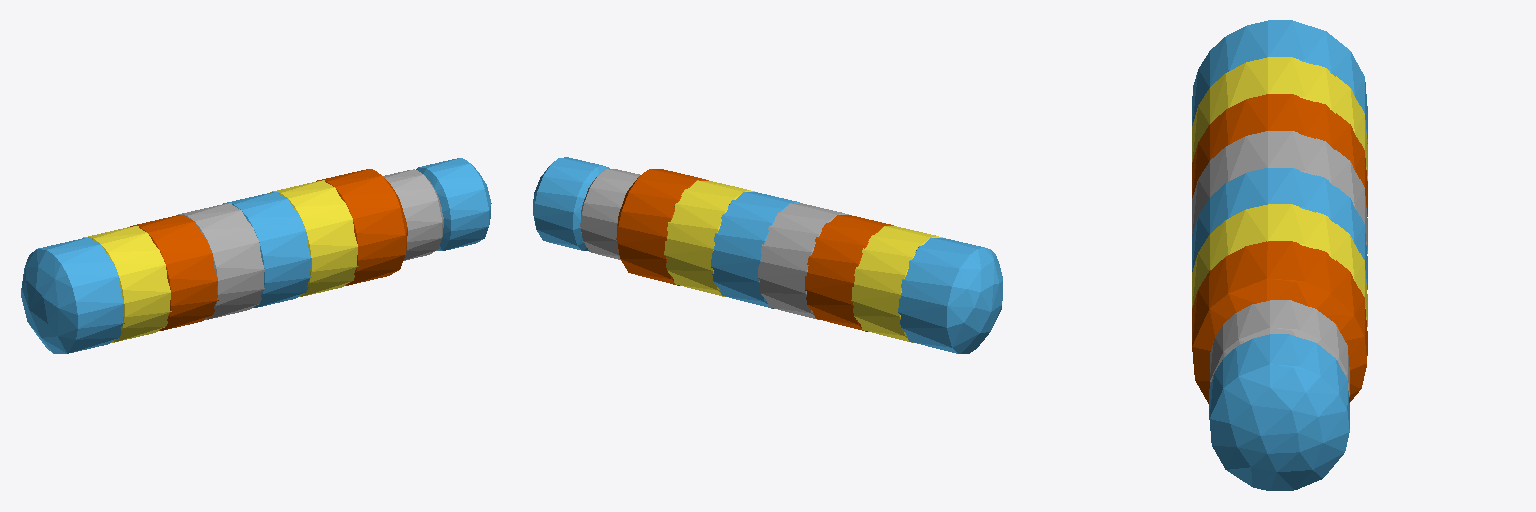
The robot description file, URDF, robot "pipe_skeleton":
<?xml version="1.0"?>
<robot name="pipe_skeleton">
    <link name="base" />
    <joint name="pipe_joint0" type="fixed">
        <origin xyz="0 0 0" rpy="0 0 1.57" />
        <parent link="base" />
        <child link="pipe_link0" />
    </joint>
    <link name="pipe_link0">
        <inertial>
            <mass value="0.001" />
            <origin xyz="0 0 0" rpy="0 0 0" />
            <inertia ixx="0.0583" ixy="0" ixz="0" iyy="0.0583" iyz="0" izz="0.05" />
        </inertial>
        <visual>
            <origin xyz="0 0 0" rpy="0 0 0" />
            <geometry>
                <mesh filename="./pipe_2cm_vhacd.obj"/>
            </geometry>
        </visual>
        <collision>
            <origin xyz="0 0 0" rpy="0 -0 0" />
            <geometry>
                <mesh filename="./pipe_2cm_vhacd.obj"/>
            </geometry>
        </collision>
    </link>

    <joint name="pipe_joint1" type="revolute">
        <origin rpy="0 0 0" xyz="0 -0.0 0"/>
        <parent link="pipe_link0"/>
        <child link="v1"/>
        <axis xyz="0 1 0"/>
        <limit effort="12" lower="-0.1001" upper="0.1001" velocity="2.6100"/>
        <damping value="1.0"/>
    </joint>
    <link name="v1">
        <inertial>
            <mass value="0.0" />
            <origin xyz="0 0 0" rpy="0 0 0" />
            <inertia ixx="1.0" ixy="0" ixz="0" iyy="1.0" iyz="0" izz="1.0" />
        </inertial>
    </link>
    <joint name="pipe_joint1v" type="revolute">
        <origin rpy="0 0 0" xyz="0 0 0.0"/>
        <parent link="v1"/>
        <child link="pipe_link1"/>
        <axis xyz="1 0 0"/>
        <limit effort="12" lower="-0.1001" upper="0.1001" velocity="2.6100"/>
        <damping value="1.0"/>
    </joint>
    <link name="pipe_link1">
        <inertial>
            <mass value="0.001" />
            <origin xyz="0 -0.01 0" rpy="0 0 0" />
            <inertia ixx="0.0583" ixy="0" ixz="0" iyy="0.0583" iyz="0" izz="0.05" />
        </inertial>
        <visual>
            <origin xyz="0 -0.01 0" rpy="0 0 0" />
            <geometry>
                <mesh filename="./pipe_2cm_vhacd.obj"/>
            </geometry>
        </visual>
        <collision>
            <origin xyz="0 -0.01 0" rpy="0 -0 0" />
            <geometry>
                <mesh filename="./pipe_2cm_vhacd.obj"/>
            </geometry>
        </collision>
    </link>

    <joint name="pipe_joint2" type="revolute">
        <origin rpy="0 0 0" xyz="0 -0.01 0"/>
        <parent link="pipe_link1"/>
        <child link="v2"/>
        <axis xyz="0 1 0"/>
        <limit effort="12" lower="-0.1001" upper="0.1001" velocity="2.6100"/>
        <damping value="1.0"/>
    </joint>
    <link name="v2">
        <inertial>
            <mass value="0.0" />
            <origin xyz="0 0 0" rpy="0 0 0" />
            <inertia ixx="1.0" ixy="0" ixz="0" iyy="1.0" iyz="0" izz="1.0" />
        </inertial>
    </link>
    <joint name="pipe_joint2v" type="revolute">
        <origin rpy="0 0 0" xyz="0 0 0.0"/>
        <parent link="v2"/>
        <child link="pipe_link2"/>
        <axis xyz="1 0 0"/>
        <limit effort="12" lower="-0.1001" upper="0.1001" velocity="2.6100"/>
        <damping value="1.0"/>
    </joint>
    <link name="pipe_link2">
        <inertial>
            <mass value="0.001" />
            <origin xyz="0 -0.01 0" rpy="0 0 0" />
            <inertia ixx="0.0583" ixy="0" ixz="0" iyy="0.0583" iyz="0" izz="0.05" />
        </inertial>
        <visual>
            <origin xyz="0 -0.01 0" rpy="0 0 0" />
            <geometry>
                <mesh filename="./pipe_2cm_vhacd.obj"/>
            </geometry>
        </visual>
        <collision>
            <origin xyz="0 -0.01 0" rpy="0 -0 0" />
            <geometry>
                <mesh filename="./pipe_2cm_vhacd.obj"/>
            </geometry>
        </collision>
    </link>

    <joint name="pipe_joint3" type="revolute">
        <origin rpy="0 0 0" xyz="0 -0.01 0"/>
        <parent link="pipe_link2"/>
        <child link="v3"/>
        <axis xyz="0 1 0"/>
        <limit effort="12" lower="-0.1001" upper="0.1001" velocity="2.6100"/>
        <damping value="1.0"/>
    </joint>
    <link name="v3">
        <inertial>
            <mass value="0.0" />
            <origin xyz="0 0 0" rpy="0 0 0" />
            <inertia ixx="1.0" ixy="0" ixz="0" iyy="1.0" iyz="0" izz="1.0" />
        </inertial>
    </link>
    <joint name="pipe_joint3v" type="revolute">
        <origin rpy="0 0 0" xyz="0 0 0.0"/>
        <parent link="v3"/>
        <child link="pipe_link3"/>
        <axis xyz="1 0 0"/>
        <limit effort="12" lower="-0.1001" upper="0.1001" velocity="2.6100"/>
        <damping value="1.0"/>
    </joint>
    <link name="pipe_link3">
        <inertial>
            <mass value="0.001" />
            <origin xyz="0 -0.01 0" rpy="0 0 0" />
            <inertia ixx="0.0583" ixy="0" ixz="0" iyy="0.0583" iyz="0" izz="0.05" />
        </inertial>
        <visual>
            <origin xyz="0 -0.01 0" rpy="0 0 0" />
            <geometry>
                <mesh filename="./pipe_2cm_vhacd.obj"/>
            </geometry>
        </visual>
        <collision>
            <origin xyz="0 -0.01 0" rpy="0 -0 0" />
            <geometry>
                <mesh filename="./pipe_2cm_vhacd.obj"/>
            </geometry>
        </collision>
    </link>

    <joint name="pipe_joint4" type="revolute">
        <origin rpy="0 0 0" xyz="0 -0.01 0"/>
        <parent link="pipe_link3"/>
        <child link="v4"/>
        <axis xyz="0 1 0"/>
        <limit effort="12" lower="-0.1001" upper="0.1001" velocity="2.6100"/>
        <damping value="1.0"/>
    </joint>
    <link name="v4">
        <inertial>
            <mass value="0.0" />
            <origin xyz="0 0 0" rpy="0 0 0" />
            <inertia ixx="1.0" ixy="0" ixz="0" iyy="1.0" iyz="0" izz="1.0" />
        </inertial>
    </link>
    <joint name="pipe_joint4v" type="revolute">
        <origin rpy="0 0 0" xyz="0 0 0.0"/>
        <parent link="v4"/>
        <child link="pipe_link4"/>
        <axis xyz="1 0 0"/>
        <limit effort="12" lower="-0.1001" upper="0.1001" velocity="2.6100"/>
        <damping value="1.0"/>
    </joint>
    <link name="pipe_link4">
        <inertial>
            <mass value="0.001" />
            <origin xyz="0 -0.01 0" rpy="0 0 0" />
            <inertia ixx="0.0583" ixy="0" ixz="0" iyy="0.0583" iyz="0" izz="0.05" />
        </inertial>
        <visual>
            <origin xyz="0 -0.01 0" rpy="0 0 0" />
            <geometry>
                <mesh filename="./pipe_2cm_vhacd.obj"/>
            </geometry>
        </visual>
        <collision>
            <origin xyz="0 -0.01 0" rpy="0 -0 0" />
            <geometry>
                <mesh filename="./pipe_2cm_vhacd.obj"/>
            </geometry>
        </collision>
    </link>
    
    <joint name="pipe_joint5" type="revolute">
        <origin rpy="0 0 0" xyz="0 -0.01 0"/>
        <parent link="pipe_link4"/>
        <child link="v5"/>
        <axis xyz="0 1 0"/>
        <limit effort="12" lower="-0.1001" upper="0.1001" velocity="2.6100"/>
        <damping value="1.0"/>
    </joint>
    <link name="v5">
        <inertial>
            <mass value="0.0" />
            <origin xyz="0 0 0" rpy="0 0 0" />
            <inertia ixx="1.0" ixy="0" ixz="0" iyy="1.0" iyz="0" izz="1.0" />
        </inertial>
    </link>
    <joint name="pipe_joint5v" type="revolute">
        <origin rpy="0 0 0" xyz="0 0 0.0"/>
        <parent link="v5"/>
        <child link="pipe_link5"/>
        <axis xyz="1 0 0"/>
        <limit effort="12" lower="-0.1001" upper="0.1001" velocity="2.6100"/>
        <damping value="1.0"/>
    </joint>
    <link name="pipe_link5">
        <inertial>
            <mass value="0.001" />
            <origin xyz="0 -0.01 0" rpy="0 0 0" />
            <inertia ixx="0.0583" ixy="0" ixz="0" iyy="0.0583" iyz="0" izz="0.05" />
        </inertial>
        <visual>
            <origin xyz="0 -0.01 0" rpy="0 0 0" />
            <geometry>
                <mesh filename="./pipe_2cm_vhacd.obj"/>
            </geometry>
        </visual>
        <collision>
            <origin xyz="0 -0.01 0" rpy="0 -0 0" />
            <geometry>
                <mesh filename="./pipe_2cm_vhacd.obj"/>
            </geometry>
        </collision>
    </link>

    <joint name="pipe_joint6" type="revolute">
        <origin rpy="0 0 0" xyz="0 -0.01 0"/>
        <parent link="pipe_link5"/>
        <child link="v6"/>
        <axis xyz="0 1 0"/>
        <limit effort="12" lower="-0.1001" upper="0.1001" velocity="2.6100"/>
        <damping value="1.0"/>
    </joint>
    <link name="v6">
        <inertial>
            <mass value="0.0" />
            <origin xyz="0 0 0" rpy="0 0 0" />
            <inertia ixx="1.0" ixy="0" ixz="0" iyy="1.0" iyz="0" izz="1.0" />
        </inertial>
    </link>
    <joint name="pipe_joint6v" type="revolute">
        <origin rpy="0 0 0" xyz="0 0 0.0"/>
        <parent link="v6"/>
        <child link="pipe_link6"/>
        <axis xyz="1 0 0"/>
        <limit effort="12" lower="-0.1001" upper="0.1001" velocity="2.6100"/>
        <damping value="1.0"/>
    </joint>
    <link name="pipe_link6">
        <inertial>
            <mass value="0.001" />
            <origin xyz="0 -0.01 0" rpy="0 0 0" />
            <inertia ixx="0.0583" ixy="0" ixz="0" iyy="0.0583" iyz="0" izz="0.05" />
        </inertial>
        <visual>
            <origin xyz="0 -0.01 0" rpy="0 0 0" />
            <geometry>
                <mesh filename="./pipe_2cm_vhacd.obj"/>
            </geometry>
        </visual>
        <collision>
            <origin xyz="0 -0.01 0" rpy="0 -0 0" />
            <geometry>
                <mesh filename="./pipe_2cm_vhacd.obj"/>
            </geometry>
        </collision>
    </link>

    <joint name="pipe_joint7" type="revolute">
        <origin rpy="0 0 0" xyz="0 -0.01 0"/>
        <parent link="pipe_link6"/>
        <child link="v7"/>
        <axis xyz="0 1 0"/>
        <limit effort="12" lower="-0.1001" upper="0.1001" velocity="2.6100"/>
        <damping value="1.0"/>
    </joint>
    <link name="v7">
        <inertial>
            <mass value="0.0" />
            <origin xyz="0 0 0" rpy="0 0 0" />
            <inertia ixx="1.0" ixy="0" ixz="0" iyy="1.0" iyz="0" izz="1.0" />
        </inertial>
    </link>
    <joint name="pipe_joint7v" type="revolute">
        <origin rpy="0 0 0" xyz="0 0 0.0"/>
        <parent link="v7"/>
        <child link="pipe_link7"/>
        <axis xyz="1 0 0"/>
        <limit effort="12" lower="-0.1001" upper="0.1001" velocity="2.6100"/>
        <damping value="1.0"/>
    </joint>
    <link name="pipe_link7">
        <inertial>
            <mass value="0.001" />
            <origin xyz="0 -0.01 0" rpy="0 0 0" />
            <inertia ixx="0.0583" ixy="0" ixz="0" iyy="0.0583" iyz="0" izz="0.05" />
        </inertial>
        <visual>
            <origin xyz="0 -0.01 0" rpy="0 0 0" />
            <geometry>
                <mesh filename="./pipe_2cm_vhacd.obj" scale="0.8 0.8 0.8"/>
            </geometry>
        </visual>
        <collision>
            <origin xyz="0 -0.01 0" rpy="0 -0 0" />
            <geometry>
                <mesh filename="./pipe_2cm_vhacd.obj" scale="0.8 0.8 0.8"/>
            </geometry>
        </collision>
    </link>

    <joint name="pipe_joint8" type="revolute">
        <origin rpy="0 0 0" xyz="0 -0.01 0"/>
        <parent link="pipe_link7"/>
        <child link="v8"/>
        <axis xyz="0 1 0"/>
        <limit effort="12" lower="-0.1001" upper="0.1001" velocity="2.6100"/>
        <damping value="1.0"/>
    </joint>
    <link name="v8">
        <inertial>
            <mass value="0.0" />
            <origin xyz="0 0 0" rpy="0 0 0" />
            <inertia ixx="1.0" ixy="0" ixz="0" iyy="1.0" iyz="0" izz="1.0" />
        </inertial>
    </link>
    <joint name="pipe_joint8v" type="revolute">
        <origin rpy="0 0 0" xyz="0 0 0.0"/>
        <parent link="v8"/>
        <child link="pipe_link8"/>
        <axis xyz="1 0 0"/>
        <limit effort="12" lower="-0.1001" upper="0.1001" velocity="2.6100"/>
        <damping value="1.0"/>
    </joint>
    <link name="pipe_link8">
        <inertial>
            <mass value="0.001" />
            <origin xyz="0 -0.01 0" rpy="0 0 0" />
            <inertia ixx="0.0583" ixy="0" ixz="0" iyy="0.0583" iyz="0" izz="0.05" />
        </inertial>
        <visual>
            <origin xyz="0 -0.01 0" rpy="0 0 0" />
            <geometry>
                <mesh filename="./pipe_2cm_vhacd.obj" scale="0.8 0.8 0.8"/>
            </geometry>
        </visual>
        <collision>
            <origin xyz="0 -0.01 0" rpy="0 -0 0" />
            <geometry>
                <mesh filename="./pipe_2cm_vhacd.obj" scale="0.8 0.8 0.8"/>
            </geometry>
        </collision>
    </link>
</robot>

--- What the picture shows (computed from the rendered views, not written in the file) ---
Views: 3 orthographic renders of the robot side by side, from view 1: azimuth 30°, elevation 25°; view 2: azimuth 150°, elevation 25°; view 3: azimuth 270°, elevation 25°.
Model pipe_skeleton with 18 links and 17 joints (16 revolute, 1 fixed), rooted at base, posed every joint at zero.
Visible links, largest first — view 1: pipe_link0, pipe_link6, pipe_link2, pipe_link3, pipe_link1, pipe_link5, pipe_link4, pipe_link8, pipe_link7; view 2: pipe_link0, pipe_link6, pipe_link1, pipe_link4, pipe_link3, pipe_link2, pipe_link5, pipe_link8, pipe_link7; view 3: pipe_link8, pipe_link6, pipe_link0, pipe_link1, pipe_link3, pipe_link5, pipe_link2, pipe_link4, pipe_link7.
Link boxes in pixels (box(x1,y1,x2,y2)): pipe_link0: box(21, 237, 124, 353); pipe_link6: box(316, 169, 407, 285); pipe_link2: box(130, 214, 218, 330); pipe_link3: box(176, 203, 264, 319); pipe_link1: box(83, 226, 171, 342); pipe_link5: box(270, 180, 358, 296); pipe_link4: box(223, 192, 311, 307); pipe_link8: box(416, 158, 491, 250); pipe_link7: box(383, 169, 443, 260); pipe_link0: box(898, 238, 1002, 353); pipe_link6: box(616, 169, 708, 285); pipe_link1: box(851, 226, 942, 342); pipe_link4: box(711, 192, 800, 308); pipe_link3: box(758, 203, 848, 319); pipe_link2: box(805, 215, 893, 331); pipe_link5: box(664, 180, 754, 296); pipe_link8: box(533, 157, 609, 250); pipe_link7: box(580, 169, 639, 259); pipe_link8: box(1209, 334, 1349, 490); pipe_link6: box(1192, 241, 1367, 403); pipe_link0: box(1192, 20, 1367, 143); pipe_link1: box(1192, 57, 1367, 180); pipe_link3: box(1192, 131, 1367, 253); pipe_link5: box(1192, 204, 1367, 326); pipe_link2: box(1192, 94, 1367, 216); pipe_link4: box(1192, 168, 1367, 289); pipe_link7: box(1210, 300, 1349, 396).
Bounding box of the posed robot: 0.0965 × 0.0202 × 0.0202 m (x, y, z).
Meshes: 1 distinct files referenced, 9 mesh visuals loaded (1 OBJ).
